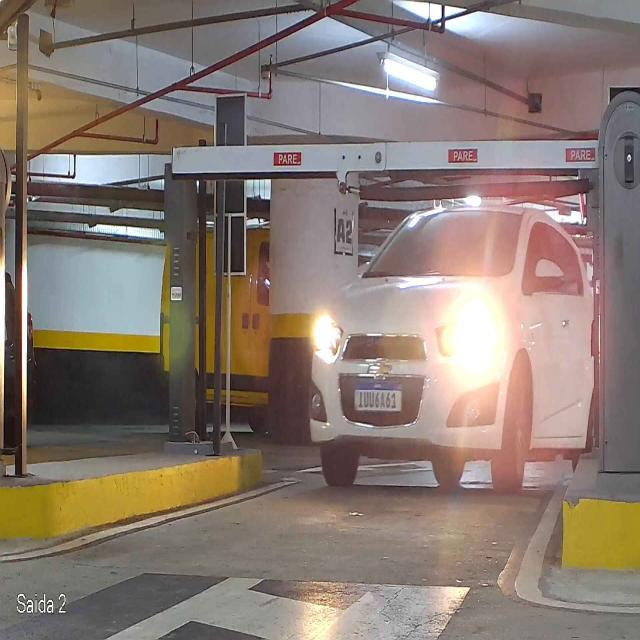mercosul_plate: (352, 383, 403, 413)
